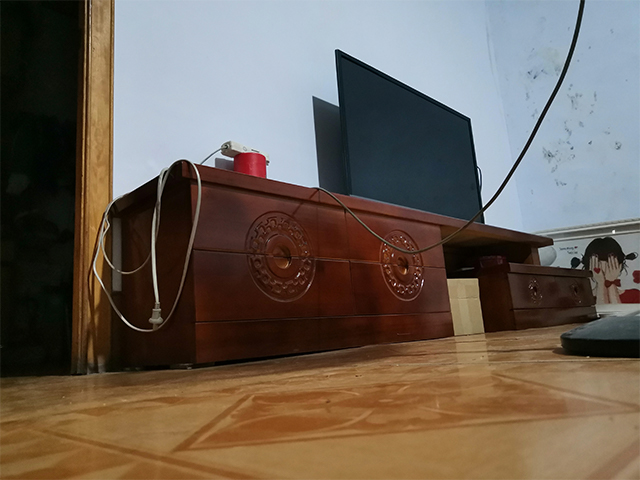cabinet: (106, 155, 602, 373)
